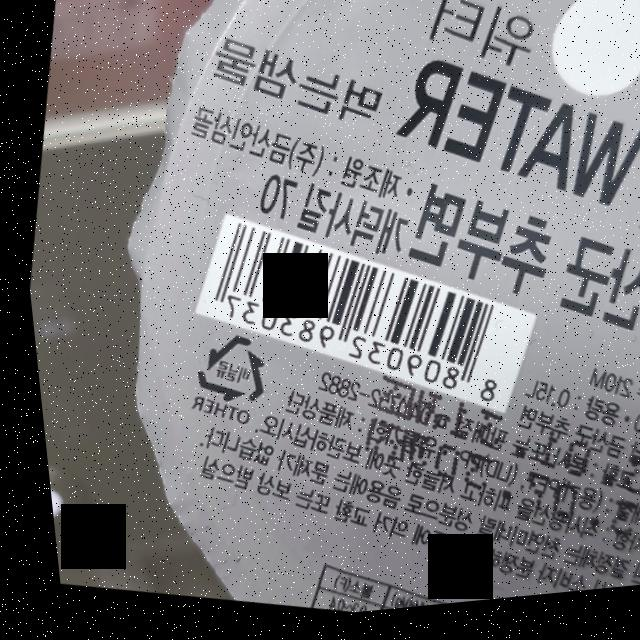Vinyl: (180, 329, 269, 416)
